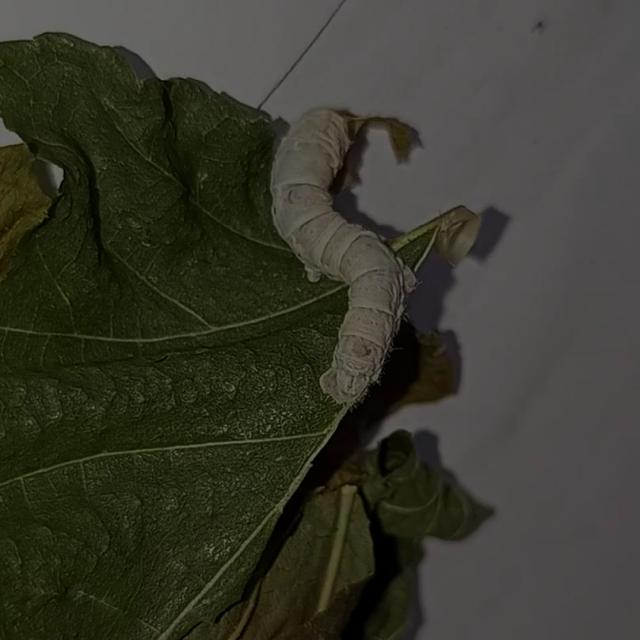Healthy: (235, 75, 460, 427)
